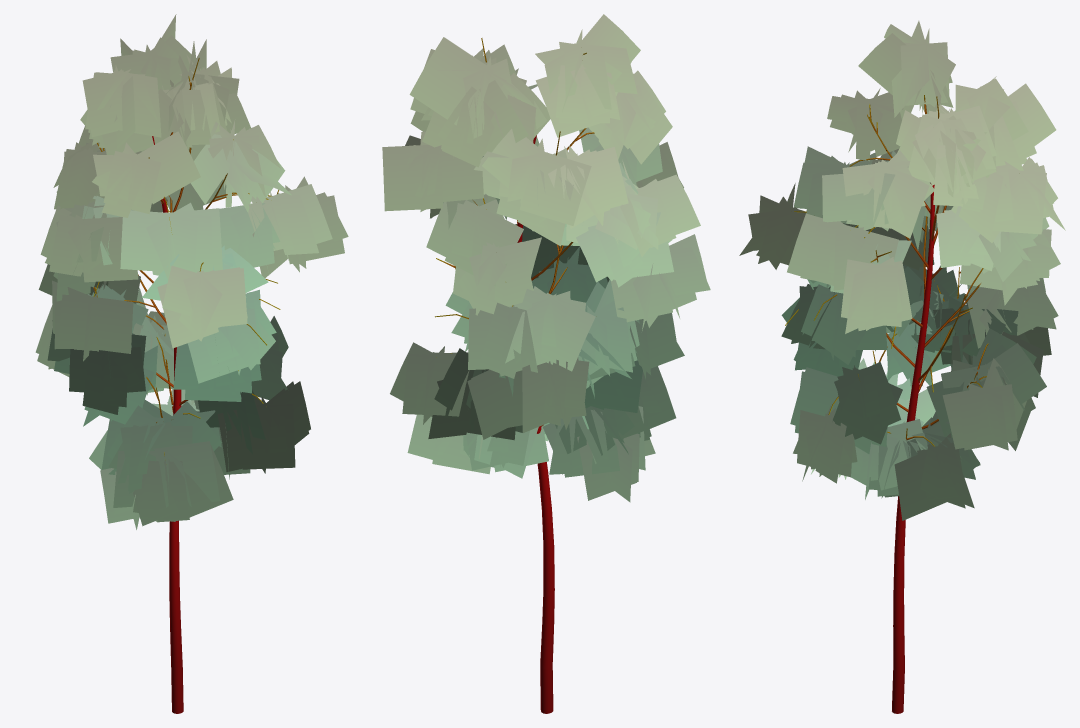
File: young_birch_a.glb
3 renders of one model, left to right at view 1: azimuth 30°, elevation 25°; view 2: azimuth 150°, elevation 25°; view 3: azimuth 270°, elevation 25°, orthographic. The views are drawn at different scales.
Visible parts, largest first — view 1: LOD0; view 2: LOD0; view 3: LOD0.
Boxes of the visible parts, box(x1,y1,x2,y2) form: LOD0: box(35, 14, 348, 713); LOD0: box(382, 14, 710, 713); LOD0: box(739, 20, 1065, 713).
Size of what is drawn, in the model's own units: 4.04 by 8.95 by 4.
